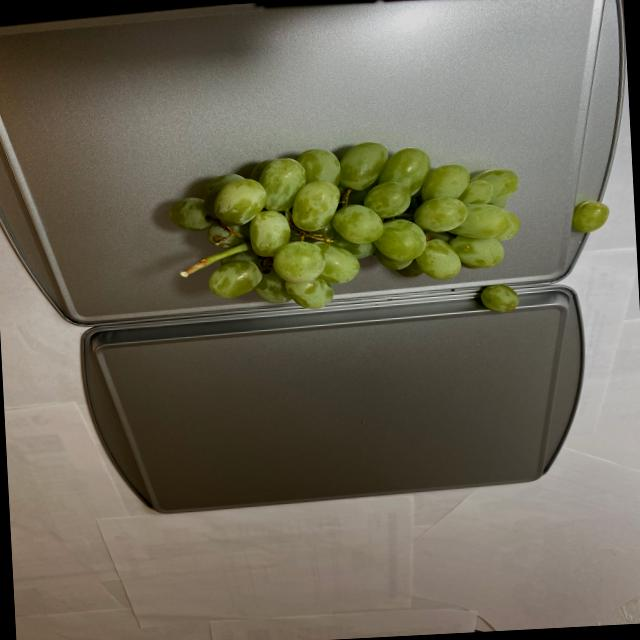grapes: (152, 145, 532, 330), (566, 196, 618, 236)
